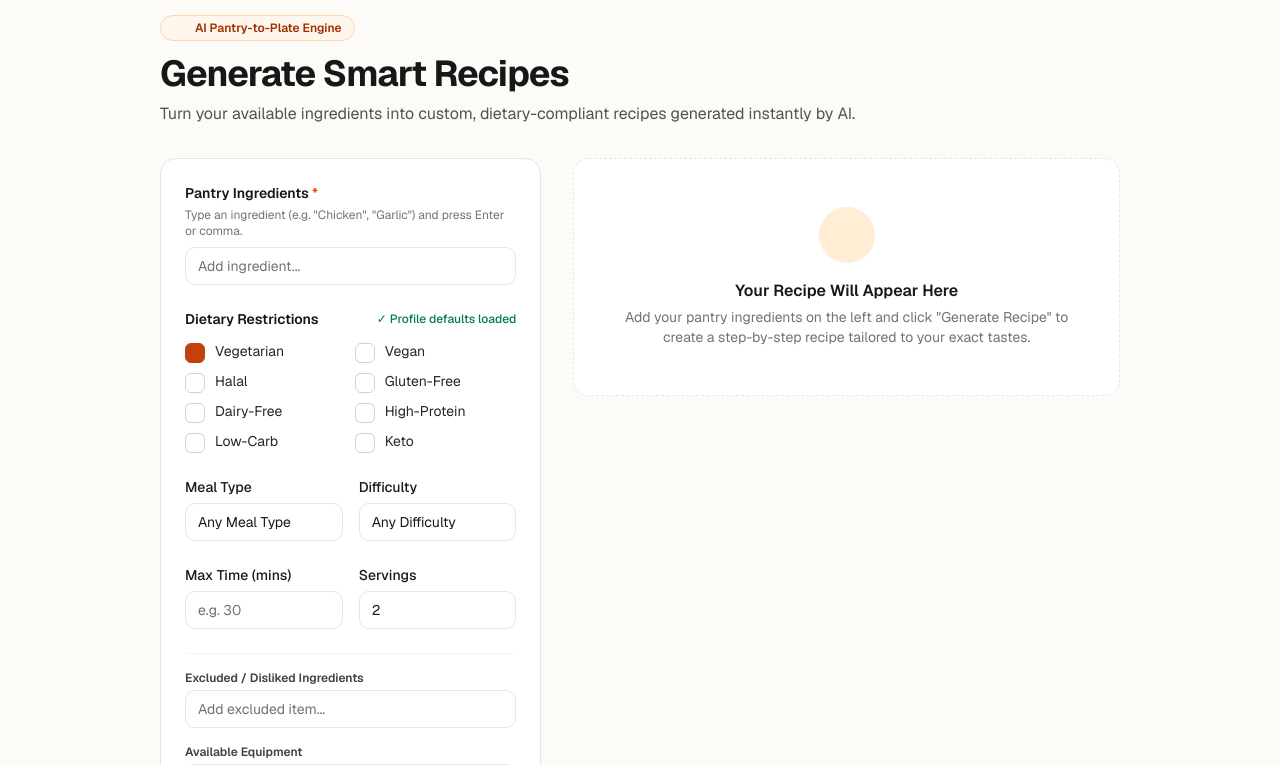
Test: Frontend Form & Component: GeneratorPage › shows busy text only on the clicked button while saving
The image size is (1280, 765).
Type "chicken breast" into the field with placeholder "Add ingredient..." at (351, 266), box [185,247,516,285]
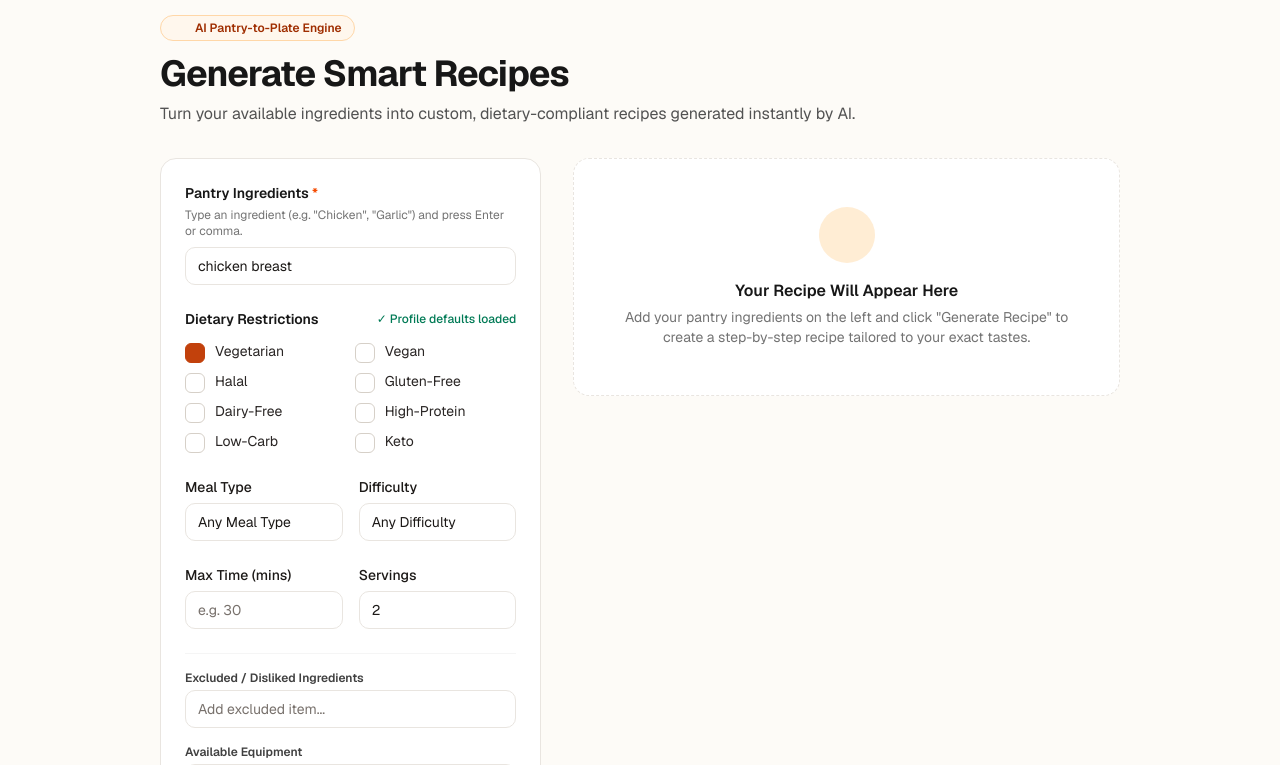
Press Enter in the field with placeholder "Add ingredient...", box [185,247,516,285]
(page scrolled)
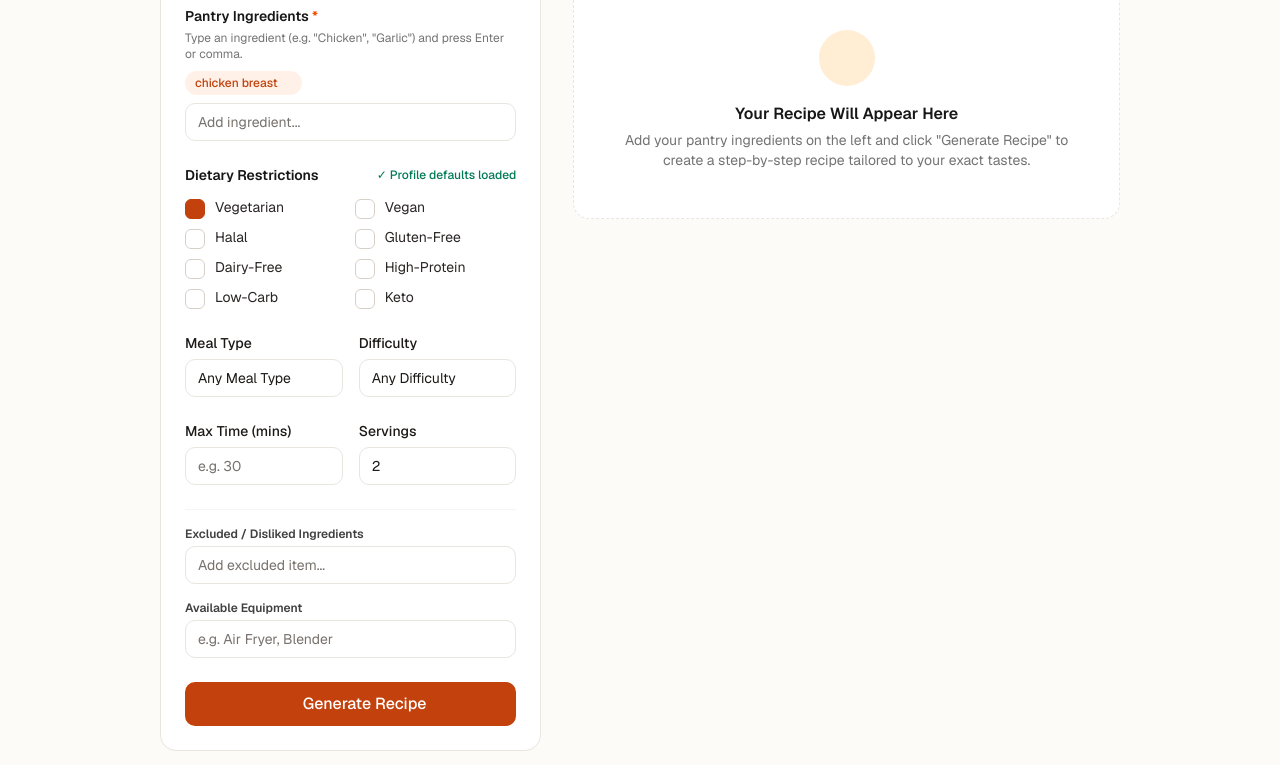
Click the button "Generate Recipe" at (351, 704), box [185,682,516,726]
(page scrolled)
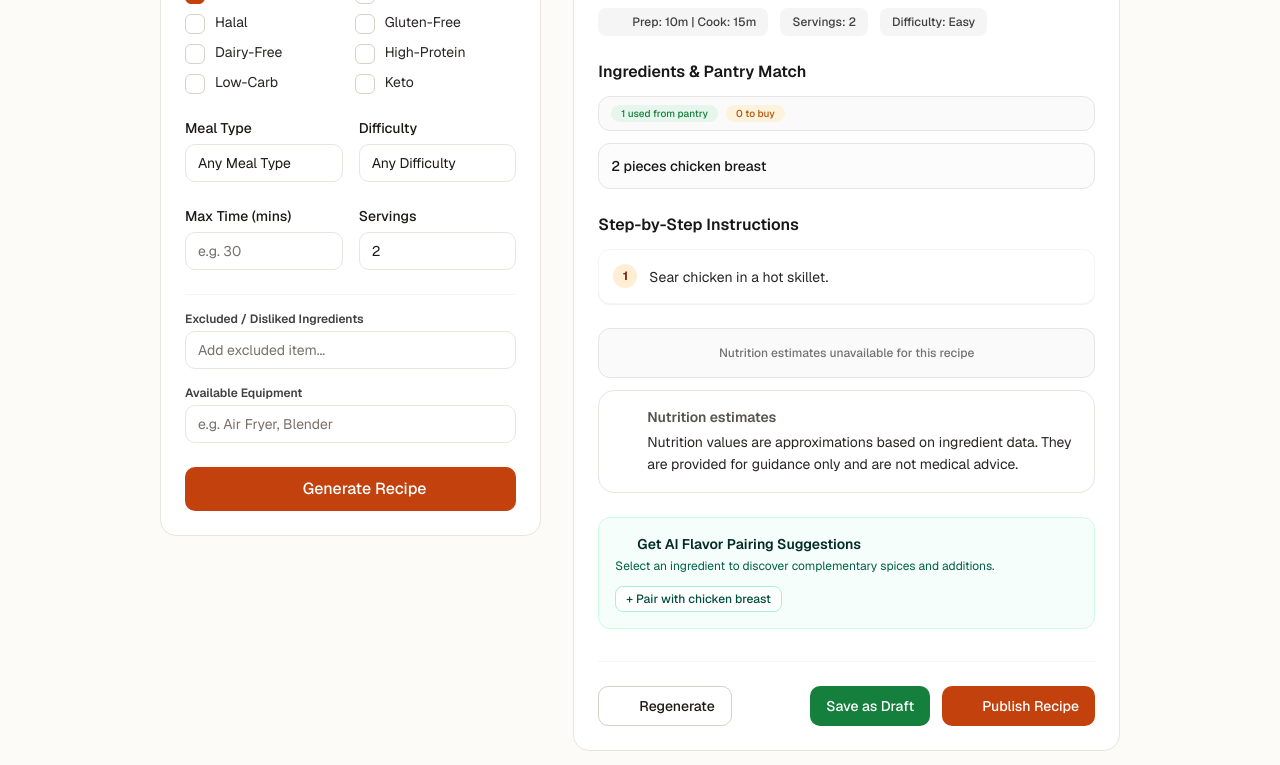
Click the button "Save as Draft" at (870, 706), box [810,686,930,726]
(page scrolled)
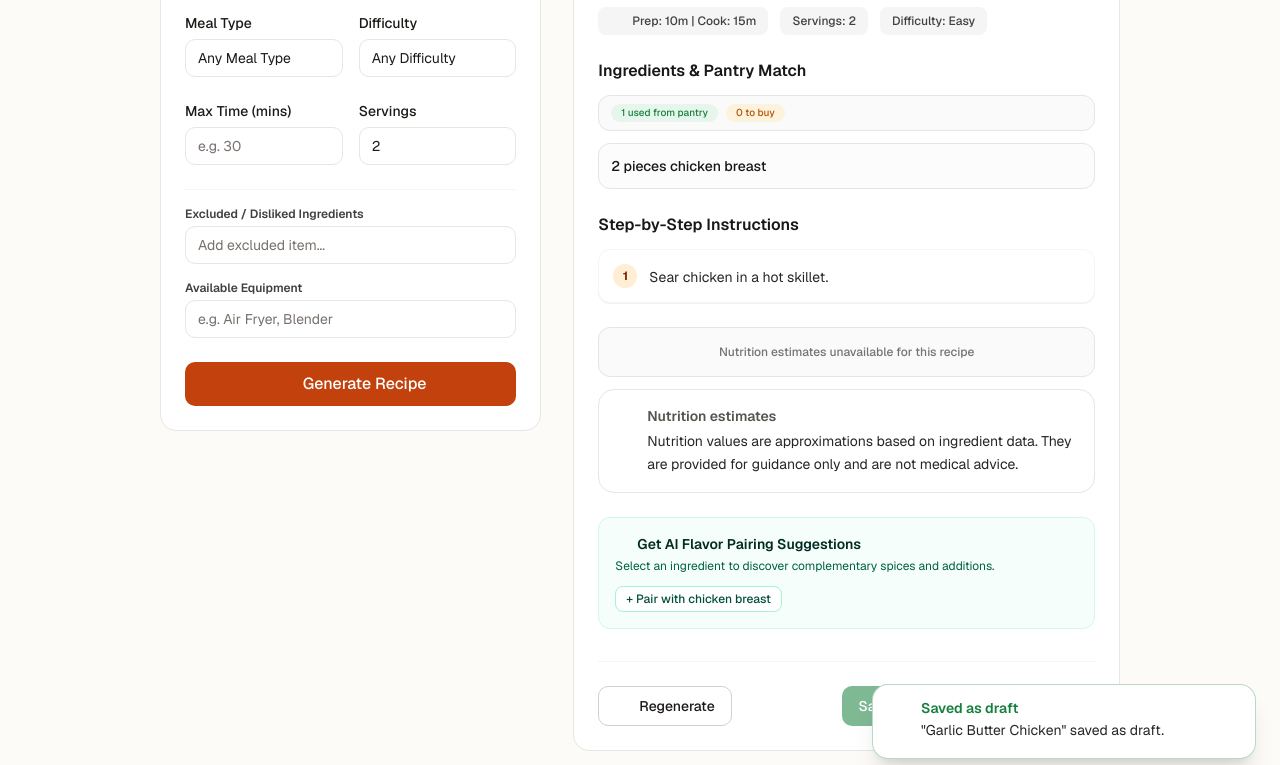
Expected: the button named "saving..." is shown, [842,686,930,726]
Expected: the button "Publish Recipe" is shown, [942,686,1095,726]
Expected: the text "saved as draft." is shown 2 times
